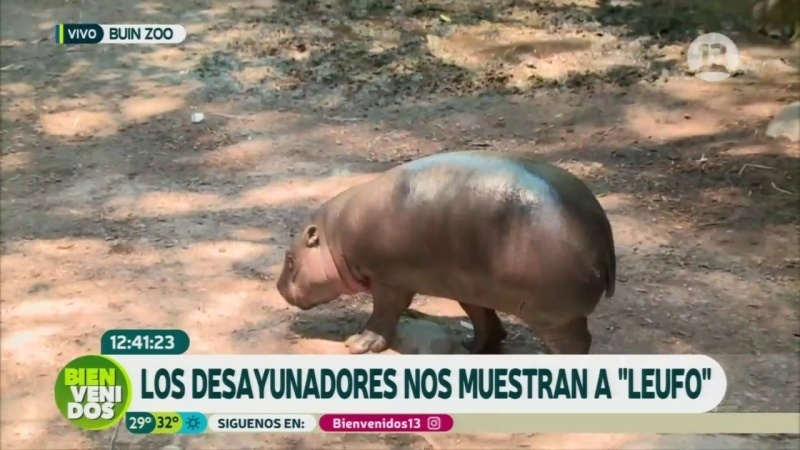hipopotamo: (251, 134, 669, 356)
